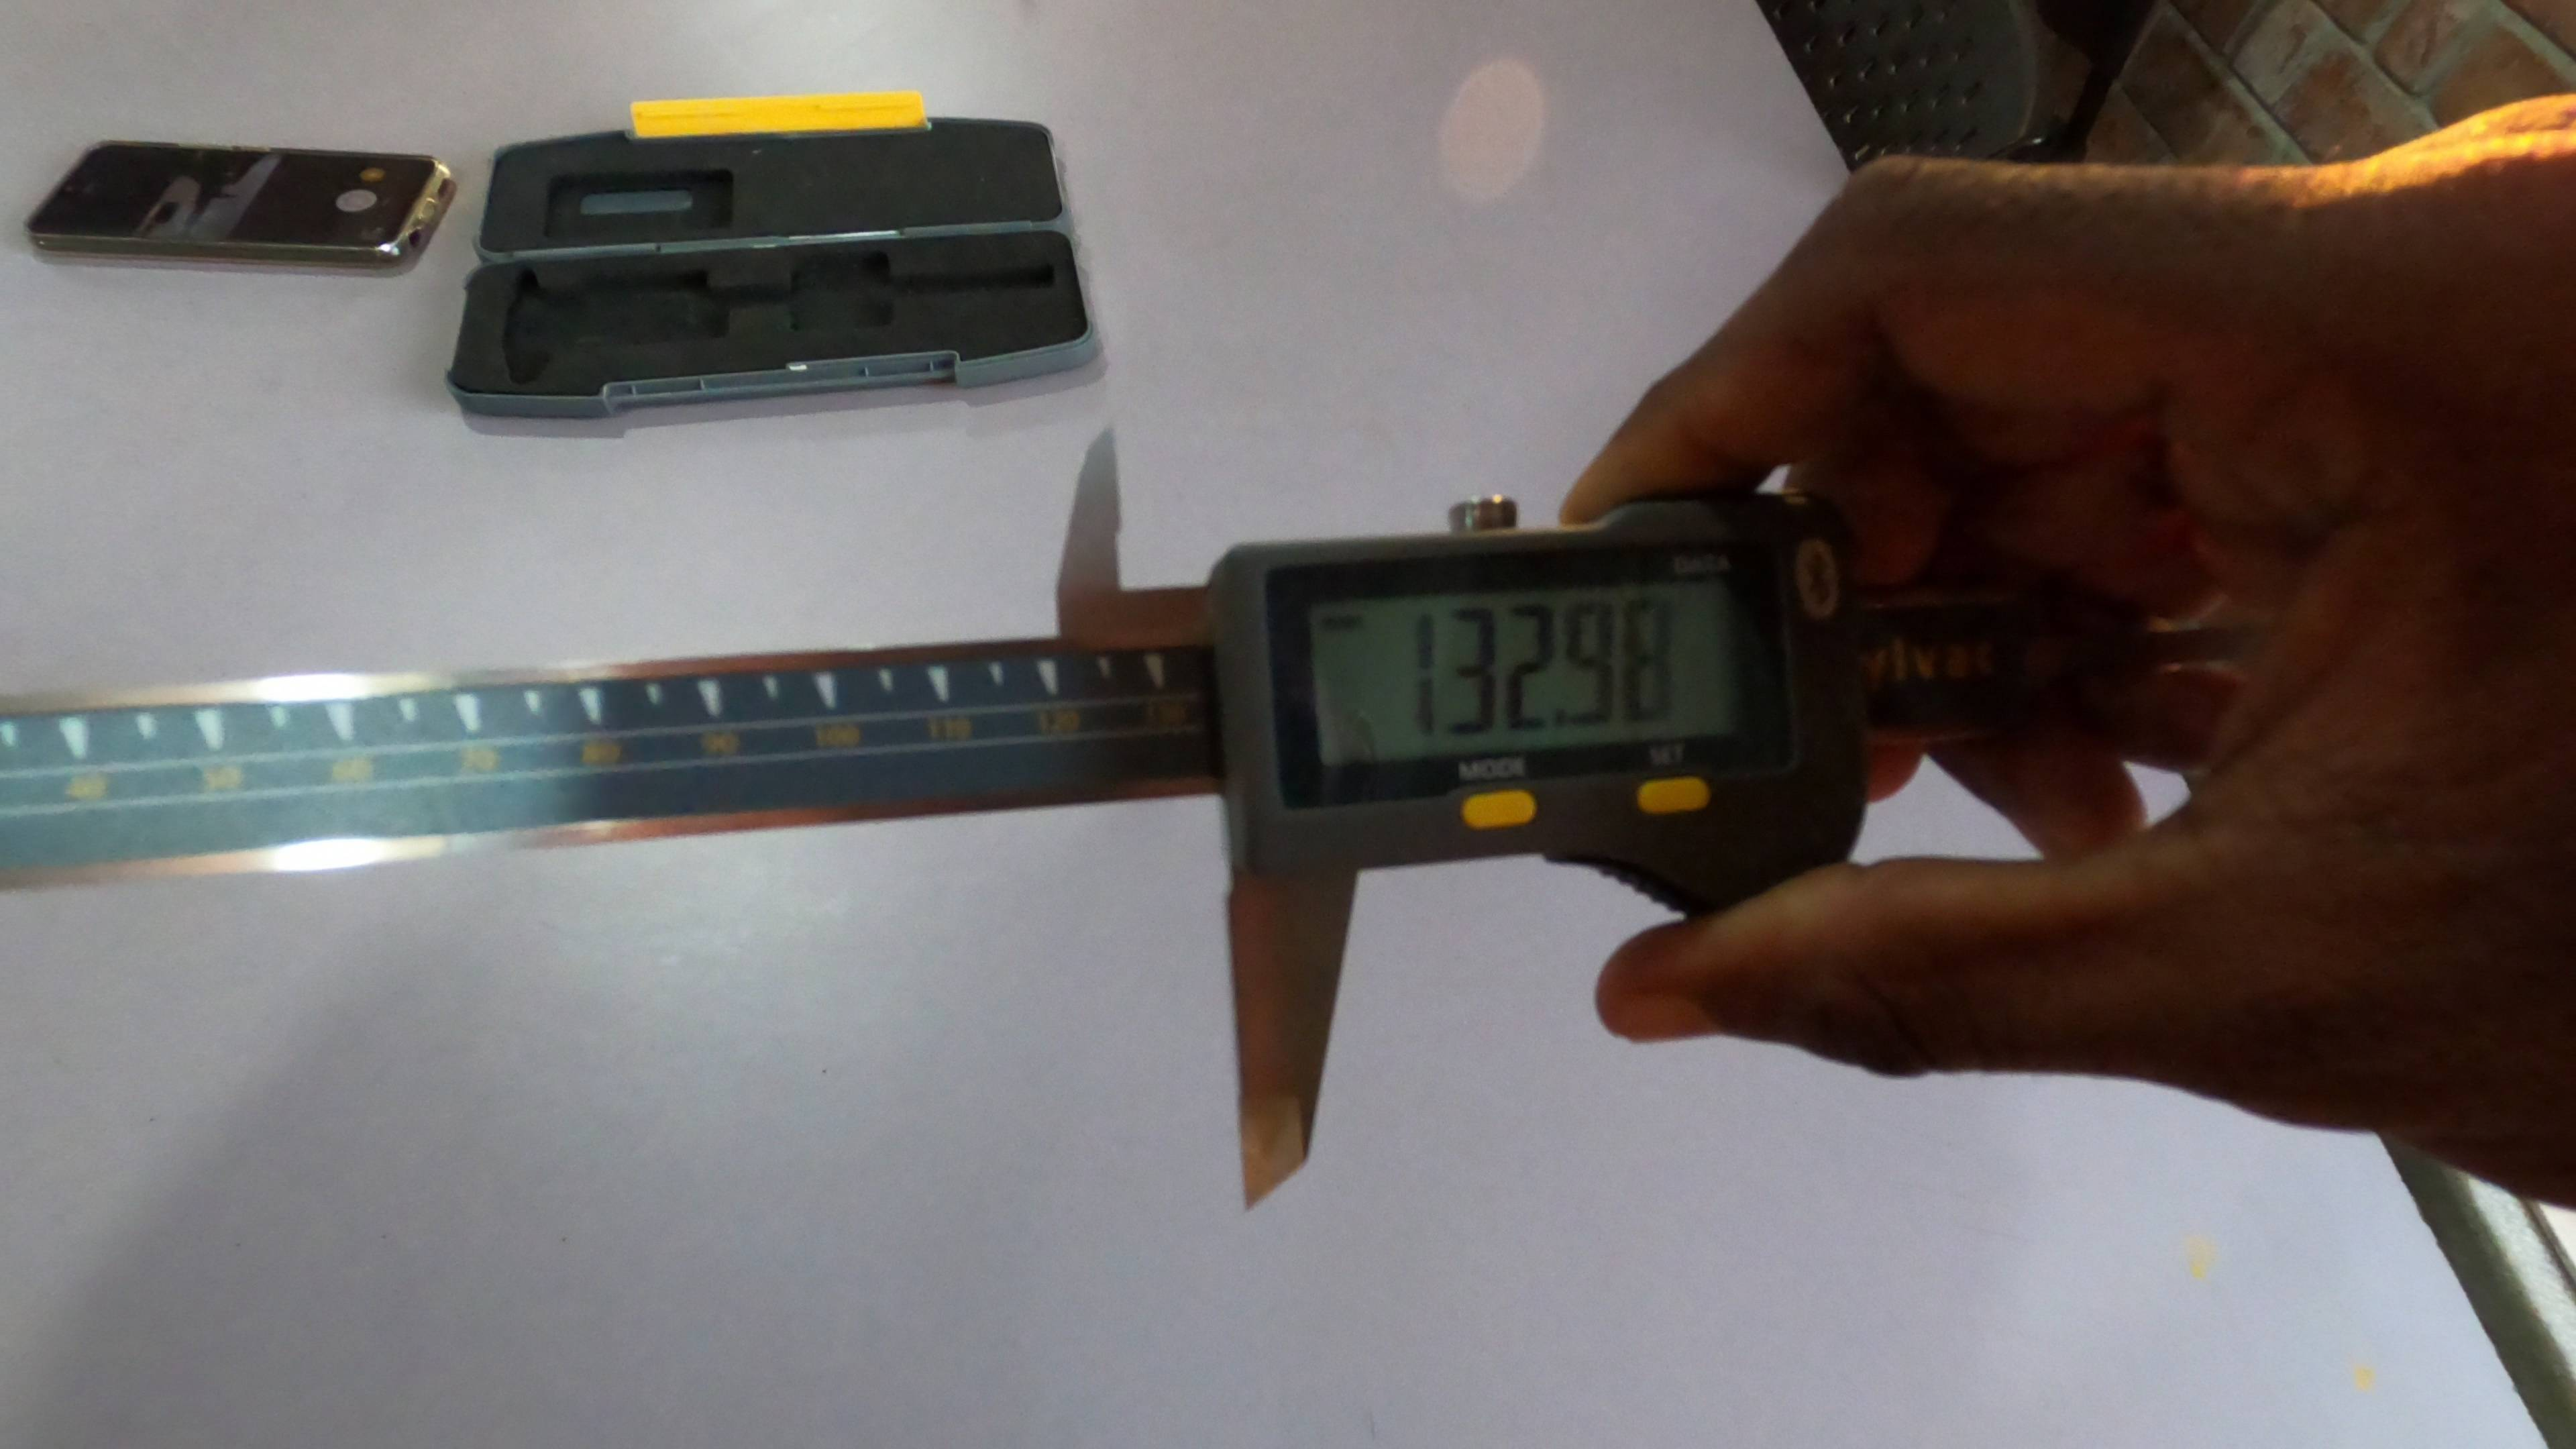vernier_caliper: (4, 416, 1879, 1292)
